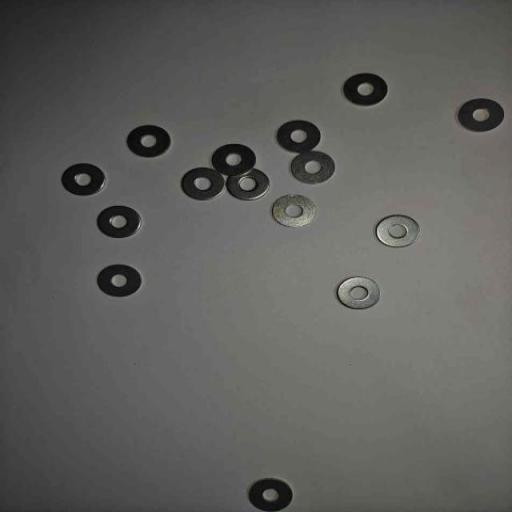washer: (456, 96, 505, 133), (342, 71, 389, 108), (275, 118, 322, 154), (179, 166, 226, 202), (290, 149, 335, 186), (271, 192, 317, 228), (95, 204, 142, 239), (247, 477, 294, 512), (226, 166, 271, 202), (210, 142, 256, 177), (60, 162, 106, 197), (126, 124, 171, 159), (374, 214, 420, 248), (96, 264, 142, 298), (336, 276, 381, 310)
